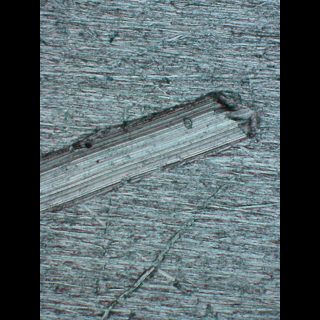d: (39, 85, 267, 217)
